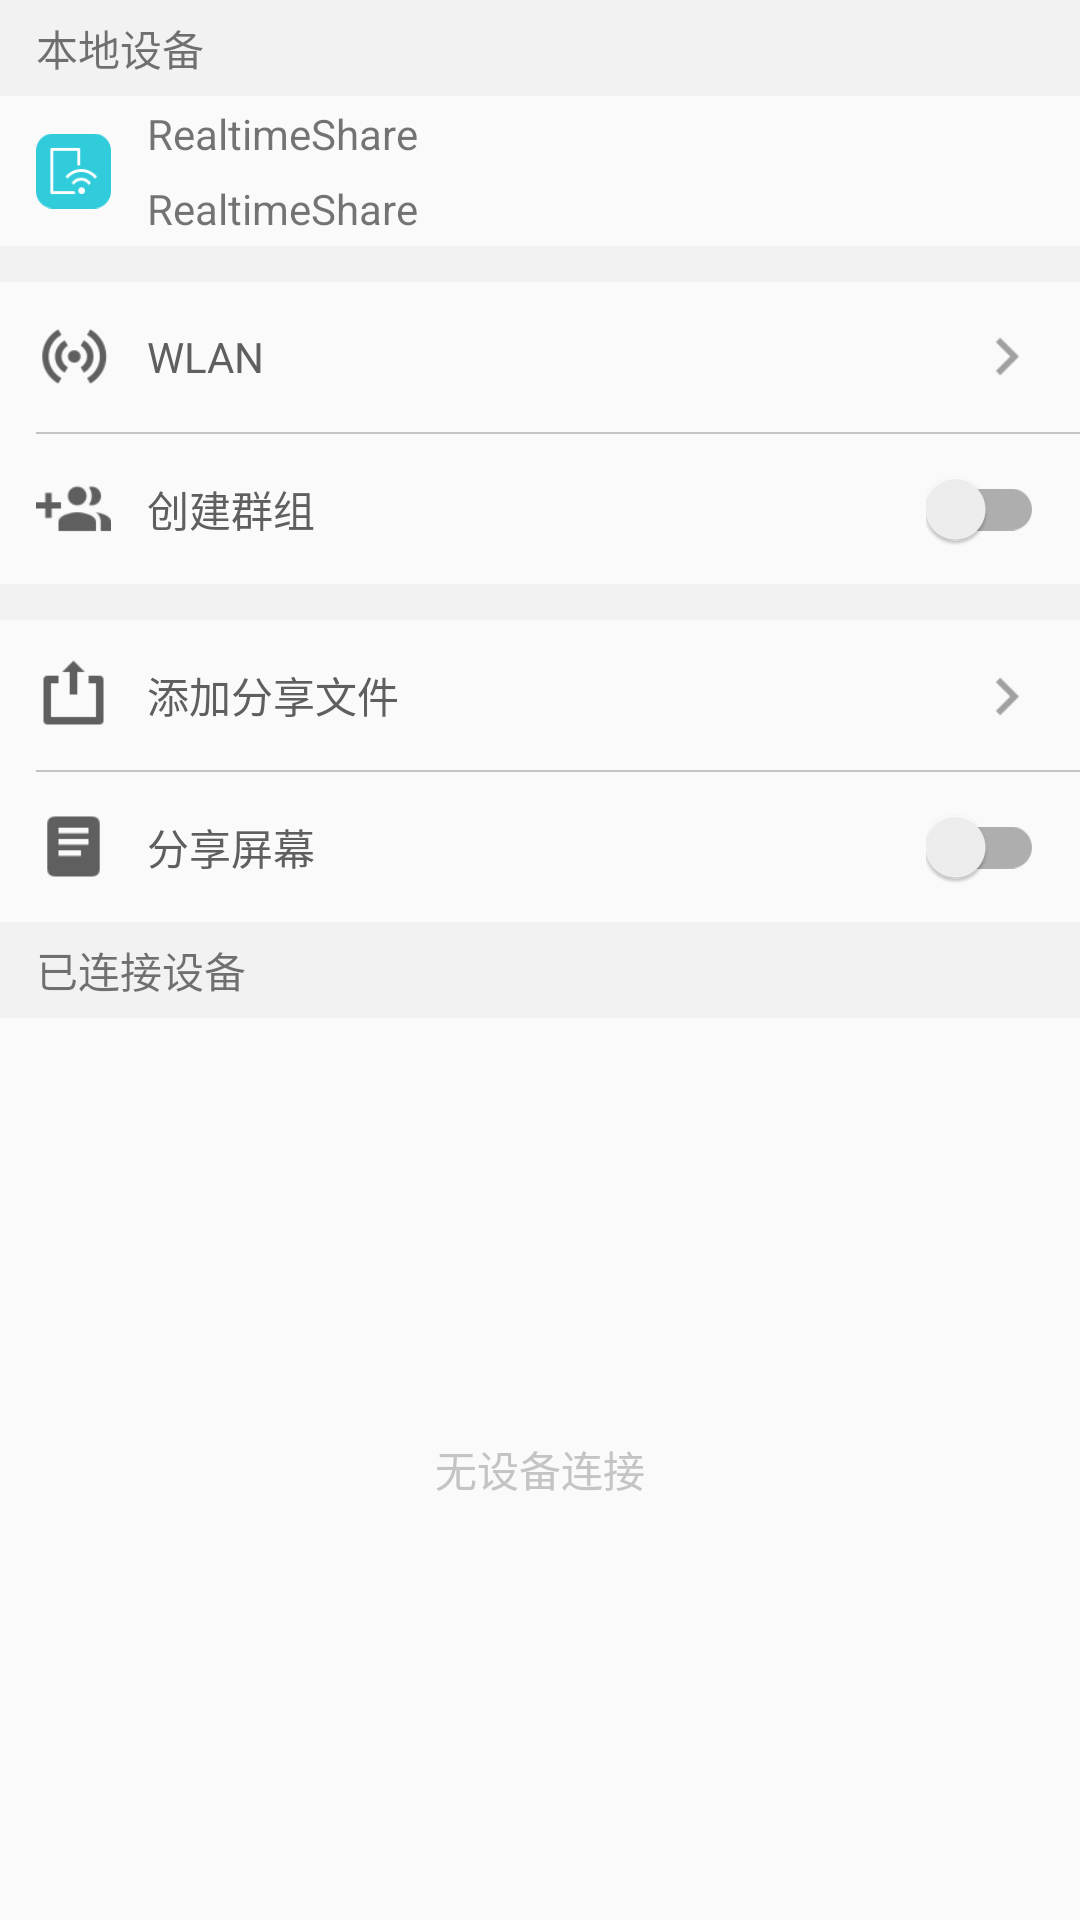

Icon click points for this 1080w x 1920h phone screenshot, format point (x, y):
create group: point (73, 508)
file share: point (73, 693)
itemarrow: point (1007, 356), point (1007, 696)
